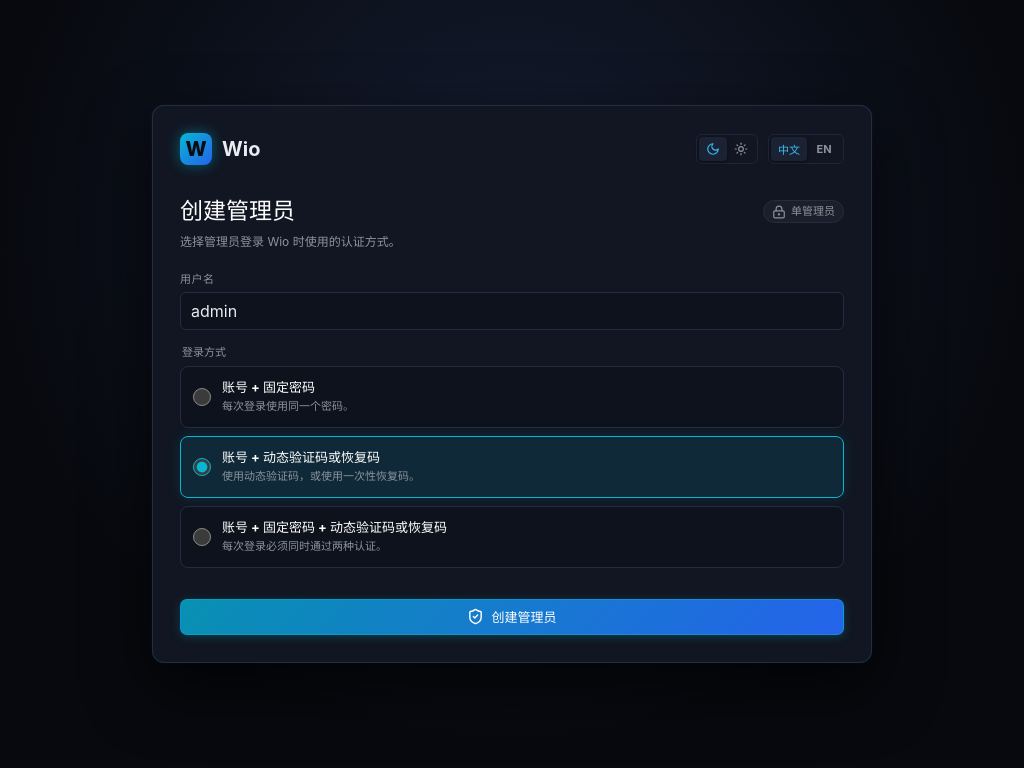
Test case: validates matching passwords before creating the administrator
The width and height of the screenshot is (1024, 768).
Click the radio button labelled "账号 + 固定密码 每次登录使用同一个密码。" at [202, 397], box [193,388,211,406]
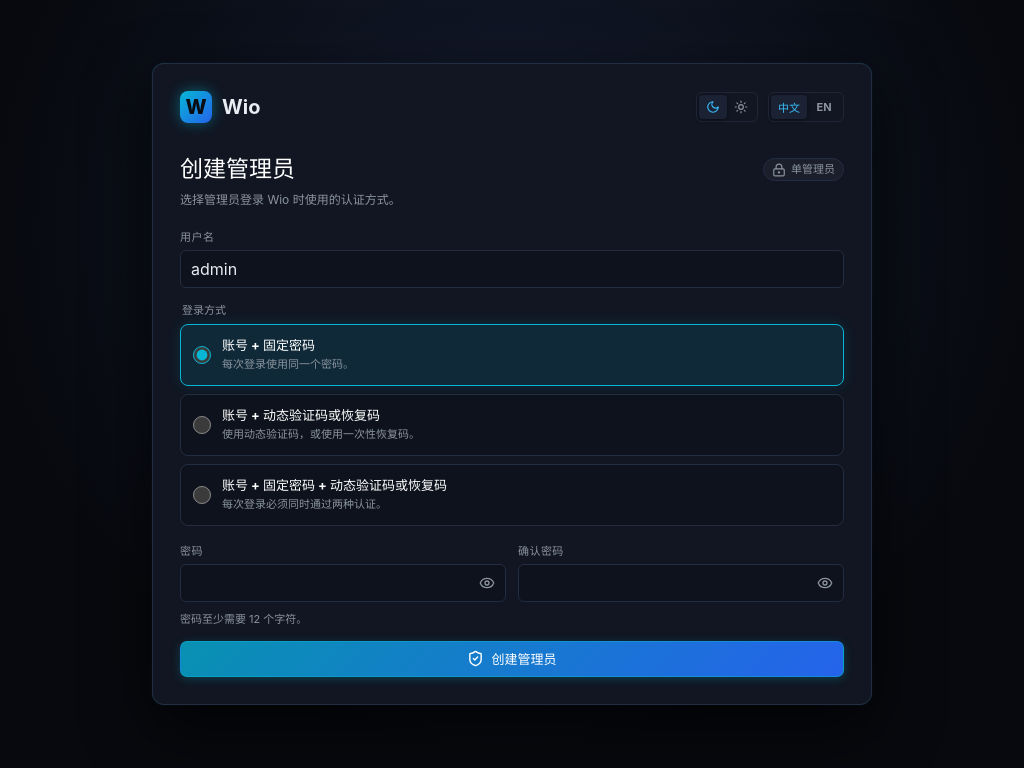
Type "correct-horse-battery-staple" into the password field labelled "密码" at [343, 583], box [180,564,506,602]
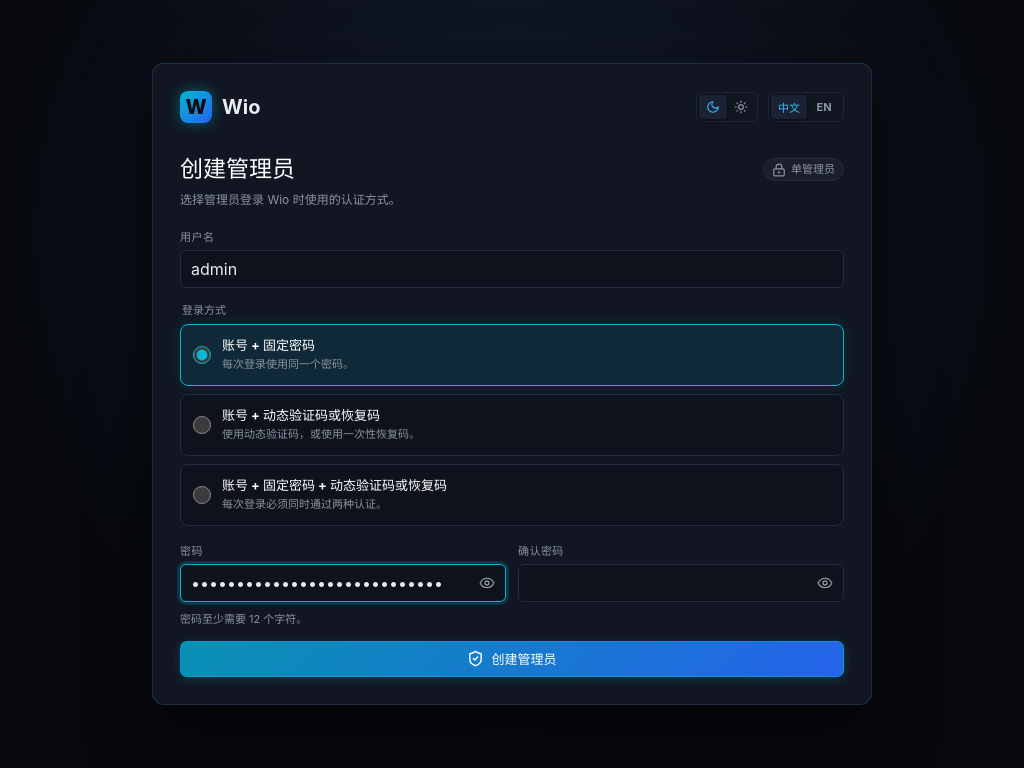
Type "different-password-value" into the password field labelled "确认密码" at [681, 583], box [518,564,844,602]
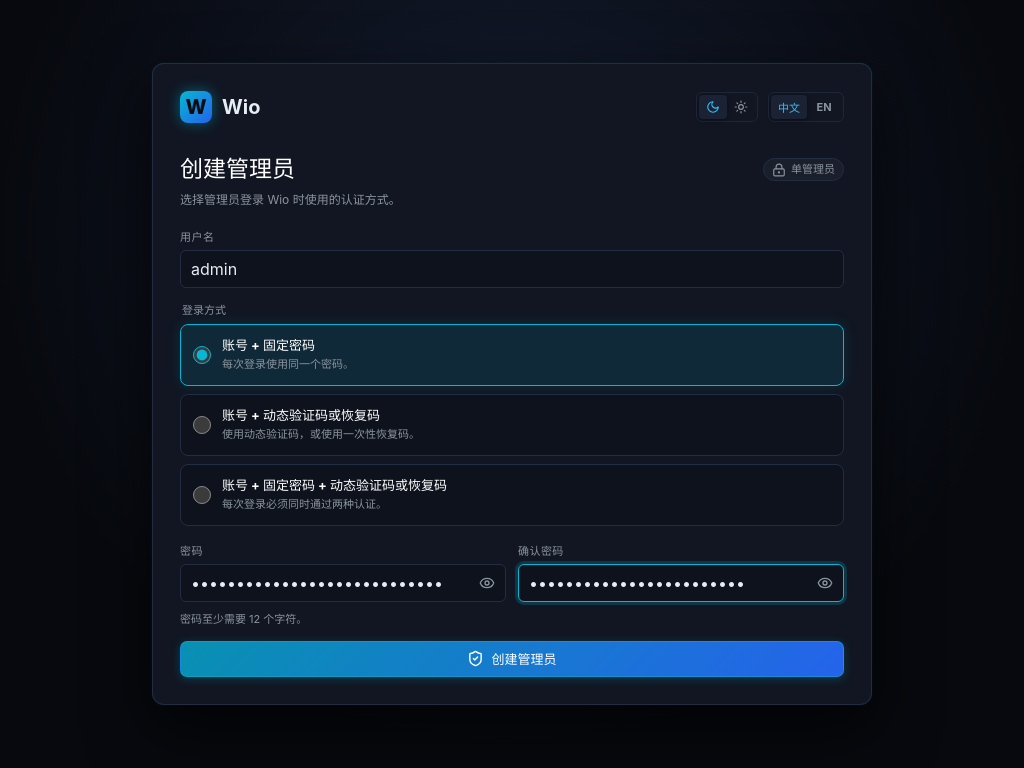
Click the button "创建管理员" at [512, 659], box [180,641,844,677]
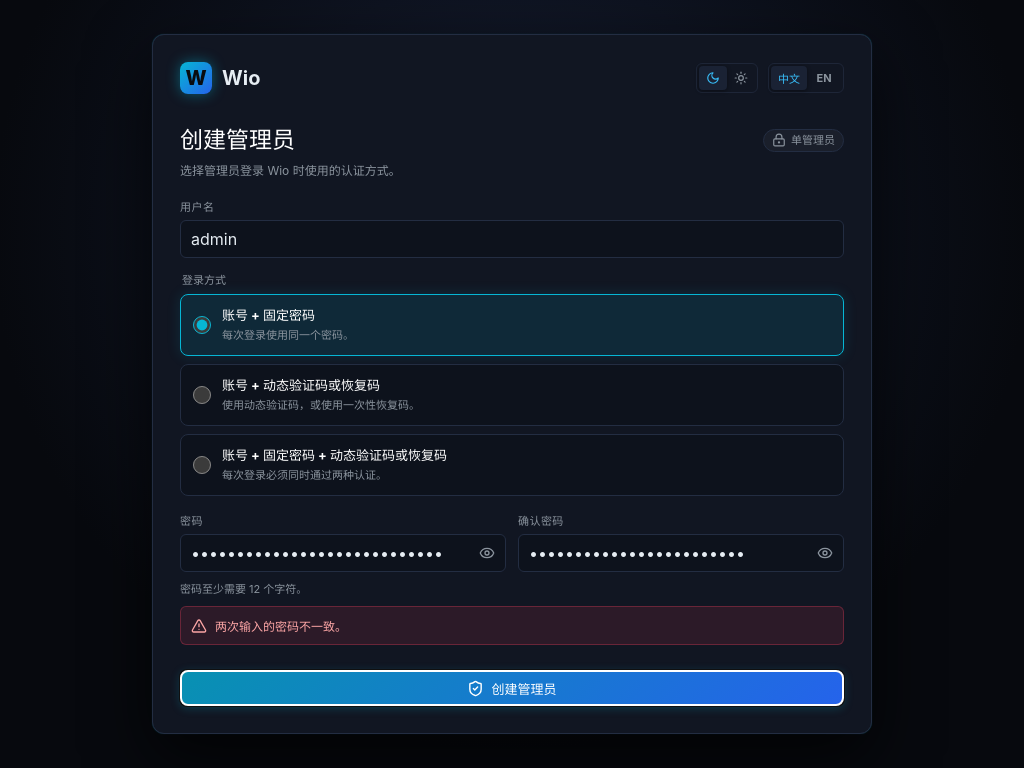
Now the text "两次输入的密码不一致。" is shown, box [180,606,844,645]
